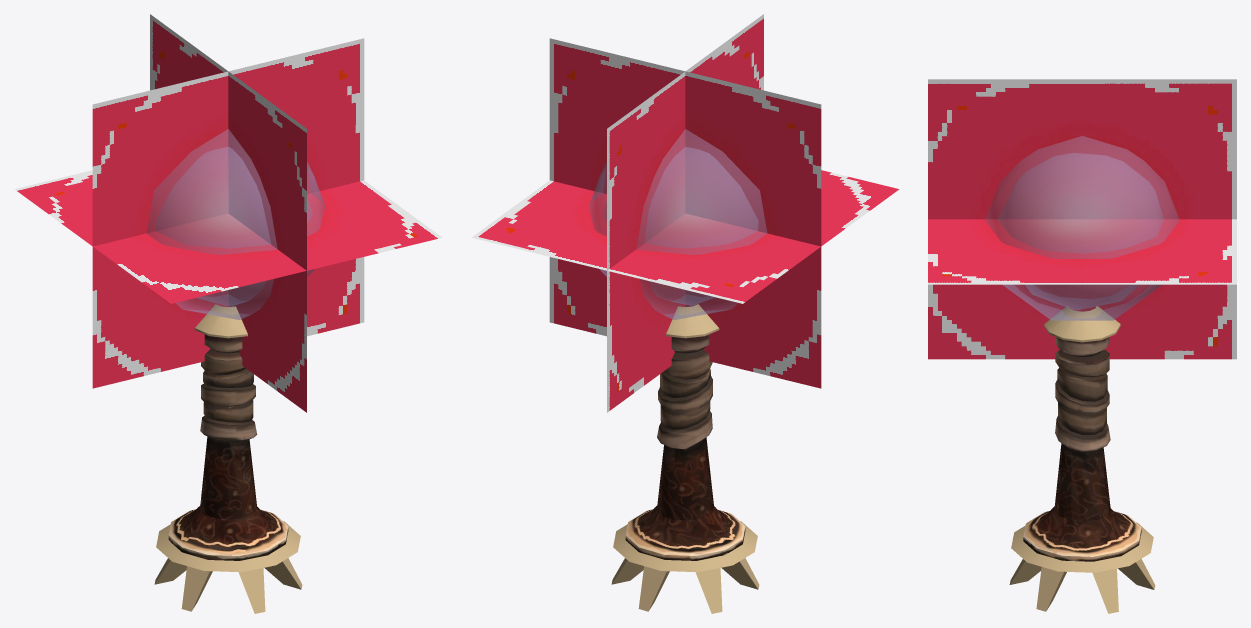
The model's file is Script-Wand-4-red.fbx.
The picture shows the model from 3 angles, left to right: view 1: azimuth 30°, elevation 25°; view 2: azimuth 150°, elevation 25°; view 3: azimuth 270°, elevation 25°; orthographic projection.
Visible parts, largest first — view 1: Plane, Cylinder.001; view 2: Plane, Cylinder.001; view 3: Plane, Cylinder.001.
Part boxes in pixels (x1,y1,x2,y2): Plane: (14, 14, 441, 412); Cylinder.001: (147, 129, 324, 613); Plane: (472, 14, 899, 412); Cylinder.001: (589, 129, 766, 613); Plane: (928, 79, 1236, 359); Cylinder.001: (985, 136, 1179, 613).
Bounding box in the file's own units: 21.81 × 39.41 × 21.81.
Materials: 4 (2 with a texture image).
